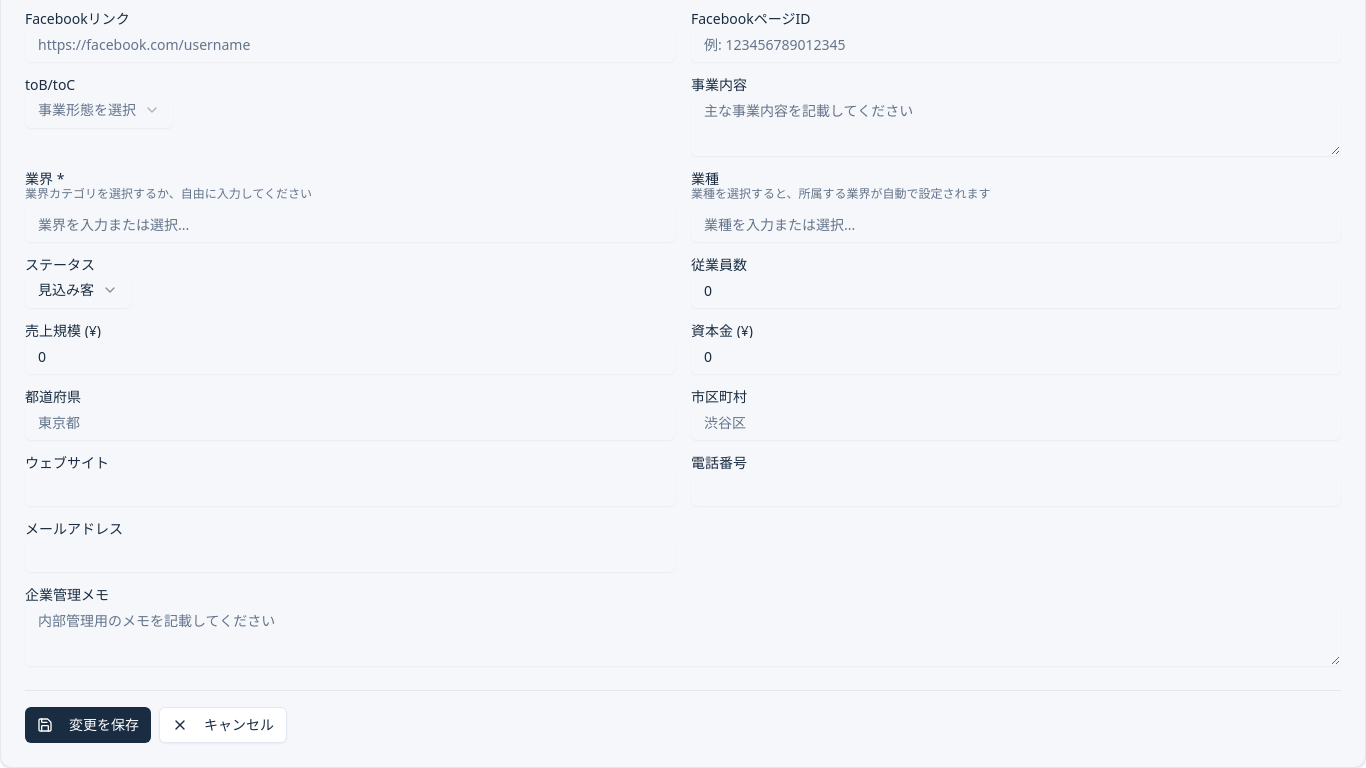
Test case: CompanyForm › 新規作成モード › should validate required fields
This screenshot has width=1366, height=768.
(page scrolled)
Note: 空のまま保存ボタンクリック
Click the button "変更を保存" at (88, 725), box [25,707,151,743]
(page scrolled)
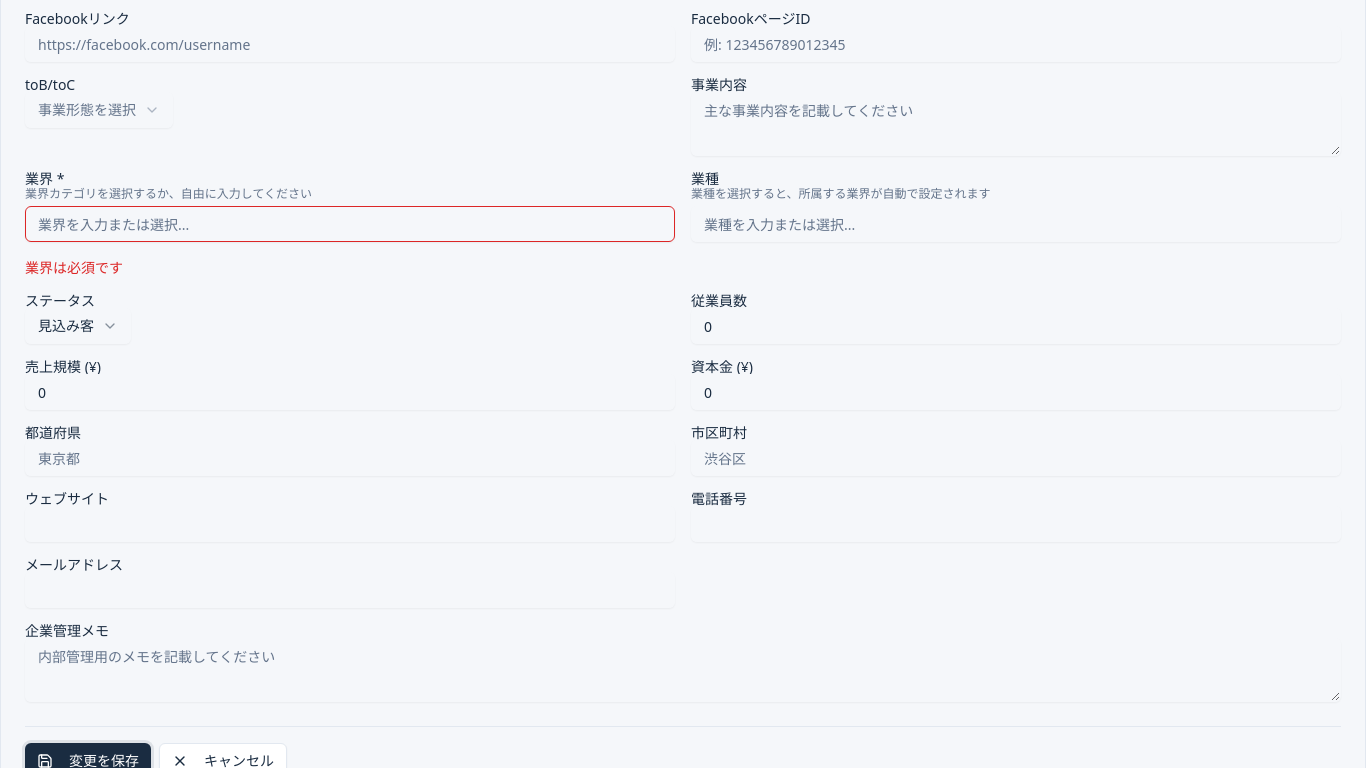
Check: the text "業界は必須です" is shown, box [25,258,123,277]
